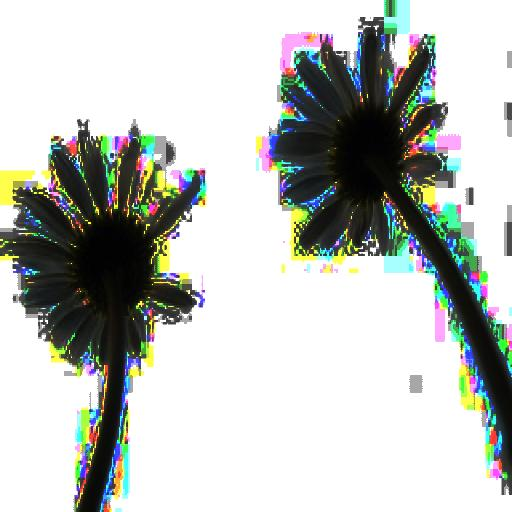daisy: (20, 132, 190, 354), (285, 34, 435, 250)
